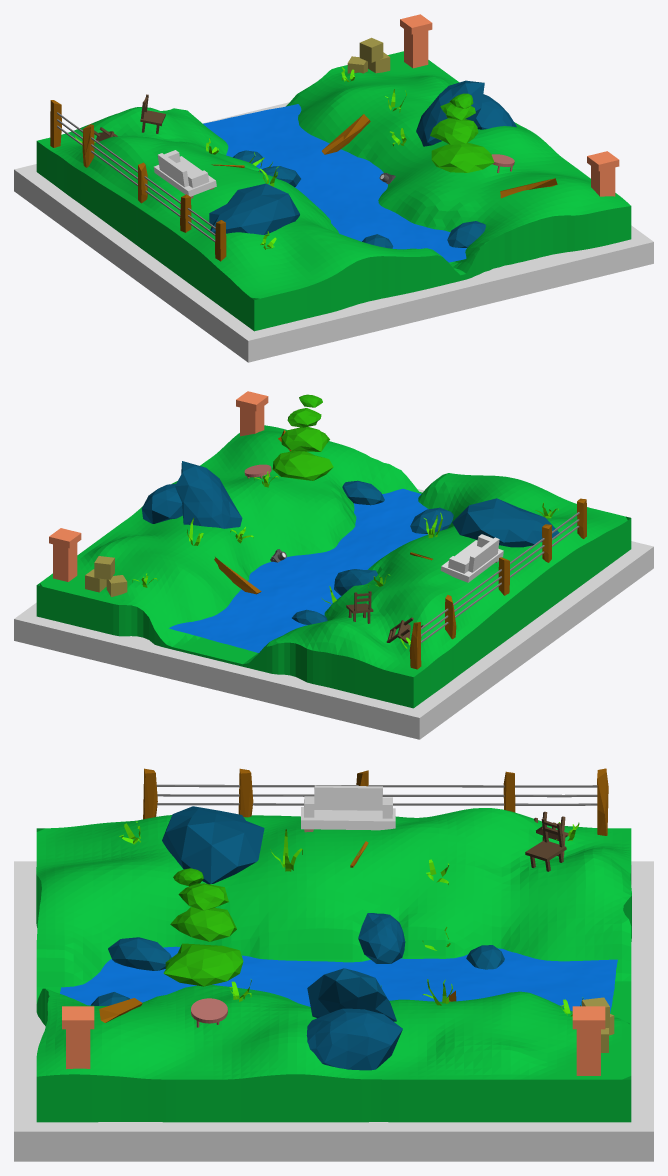
File: risingsundream.gltf
3 views of the same model, one above another, from view 1: azimuth 30°, elevation 25°; view 2: azimuth 150°, elevation 25°; view 3: azimuth 270°, elevation 25° (orthographic). The views are drawn at different scales.
Visible parts, largest first — view 1: Cube; view 2: Cube; view 3: Cube.
Part boxes in pixels (x1,y1,x2,y2): Cube: (14,14,653,362); Cube: (14,391,653,739); Cube: (14,768,653,1161).
Bounding box in the file's own units: 20 × 7.12 × 20.
